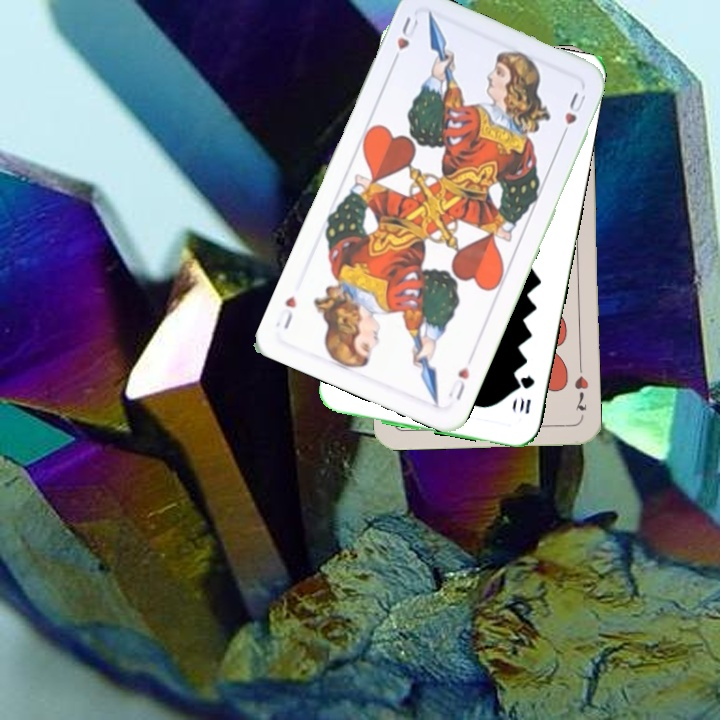G10: (514, 372, 537, 417)
H7: (570, 360, 591, 413)
HU: (388, 12, 423, 68), (443, 363, 472, 403)
